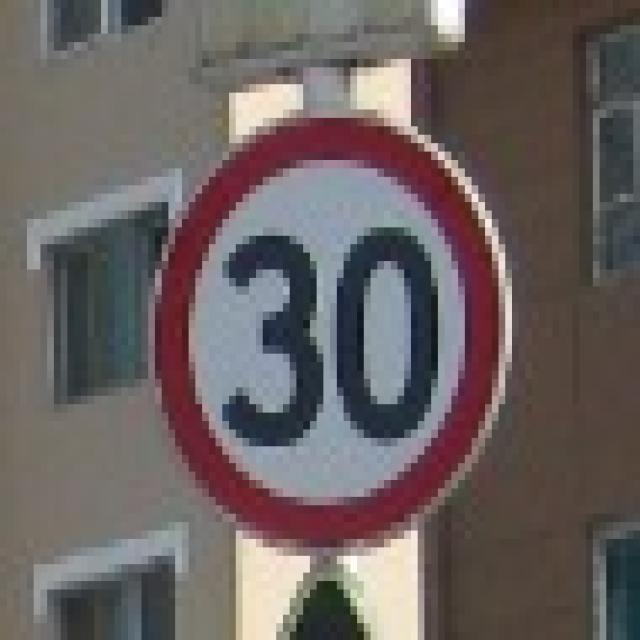Speed Limit -30-: (216, 221, 441, 449)
